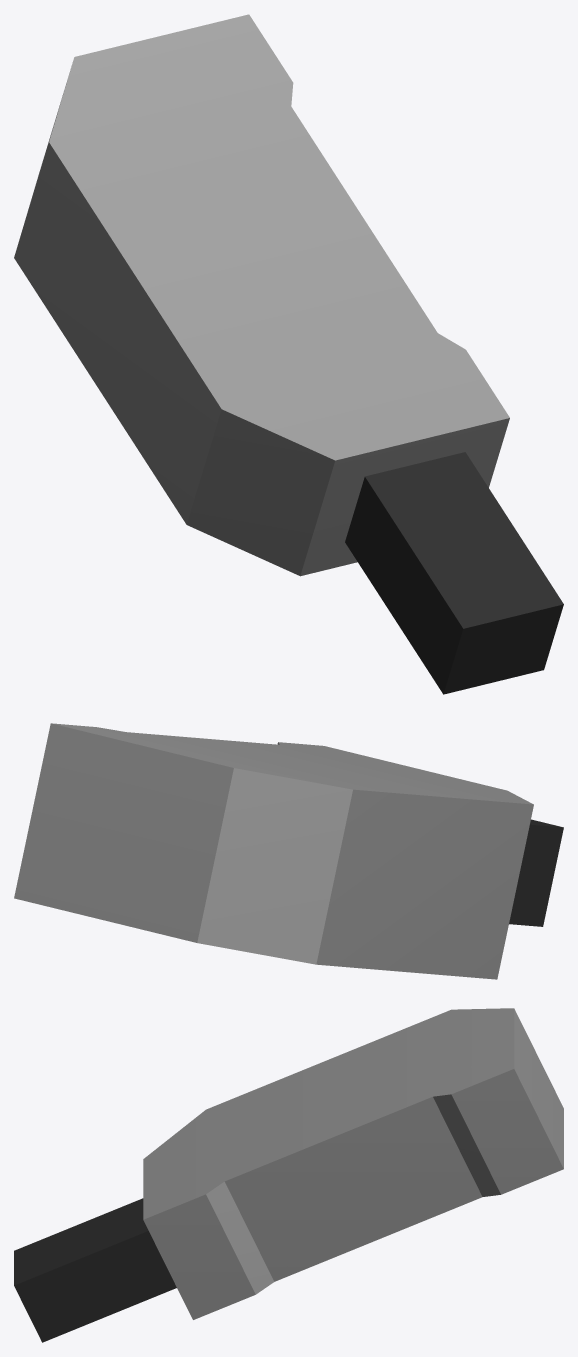
The model's file is AssaultRifle2_04_4.fbx.
3 views of the same model, one above another, from view 1: azimuth 30°, elevation 25°; view 2: azimuth 150°, elevation 25°; view 3: azimuth 270°, elevation 25° (orthographic). The views are drawn at different scales.
Visible parts, largest first — view 1: AssaultRifle2_04_4; view 2: AssaultRifle2_04_4; view 3: AssaultRifle2_04_4.
Boxes of the visible parts, x1,y1,x2,y2 form: AssaultRifle2_04_4: [14, 14, 563, 694]; AssaultRifle2_04_4: [14, 723, 563, 979]; AssaultRifle2_04_4: [14, 1008, 563, 1342].
Size of the model in its own units: 0.0146 by 0.0231 by 0.0401.
